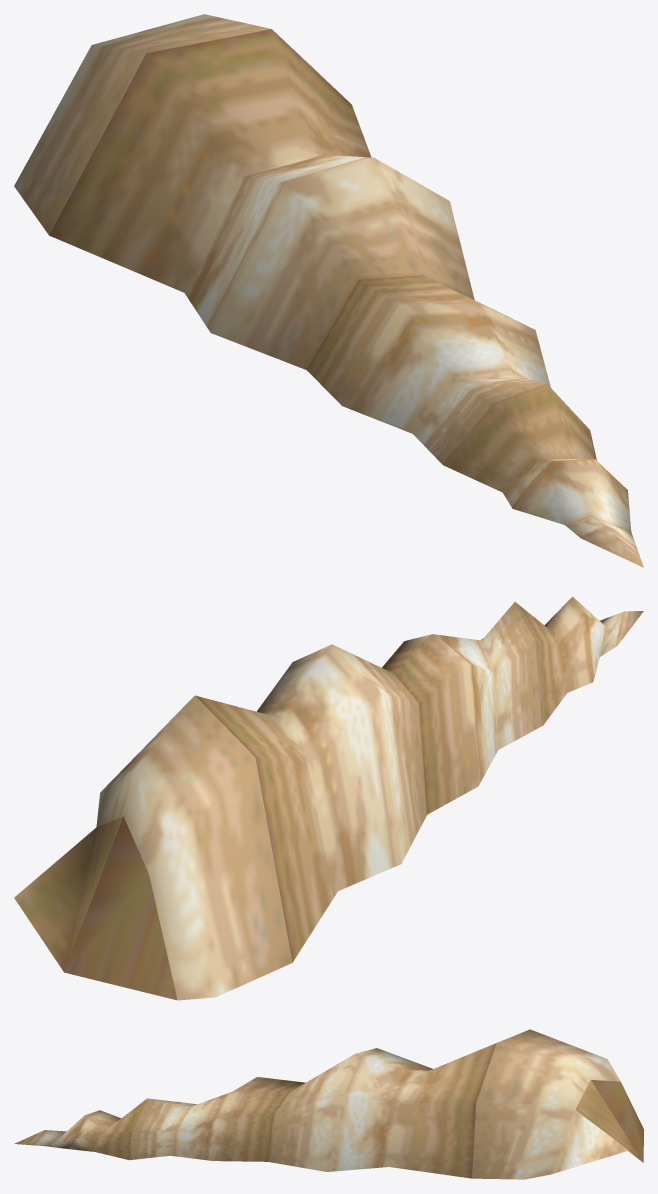
File: 5010_Item_hailuo_03.FBX
The picture shows the model from 3 angles, top to bottom: view 1: azimuth 30°, elevation 25°; view 2: azimuth 150°, elevation 25°; view 3: azimuth 270°, elevation 25°; orthographic projection. The views are drawn at different scales.
Visible parts, largest first — view 1: 5010_Item_hailuo_03; view 2: 5010_Item_hailuo_03; view 3: 5010_Item_hailuo_03.
Boxes of the visible parts, x1=… form: 5010_Item_hailuo_03: x1=14, y1=14, x2=643, y2=567; 5010_Item_hailuo_03: x1=14, y1=596, x2=643, y2=1000; 5010_Item_hailuo_03: x1=14, y1=1029, x2=643, y2=1179.
Size of the model in its own units: 9.52 by 7.81 by 38.07.
